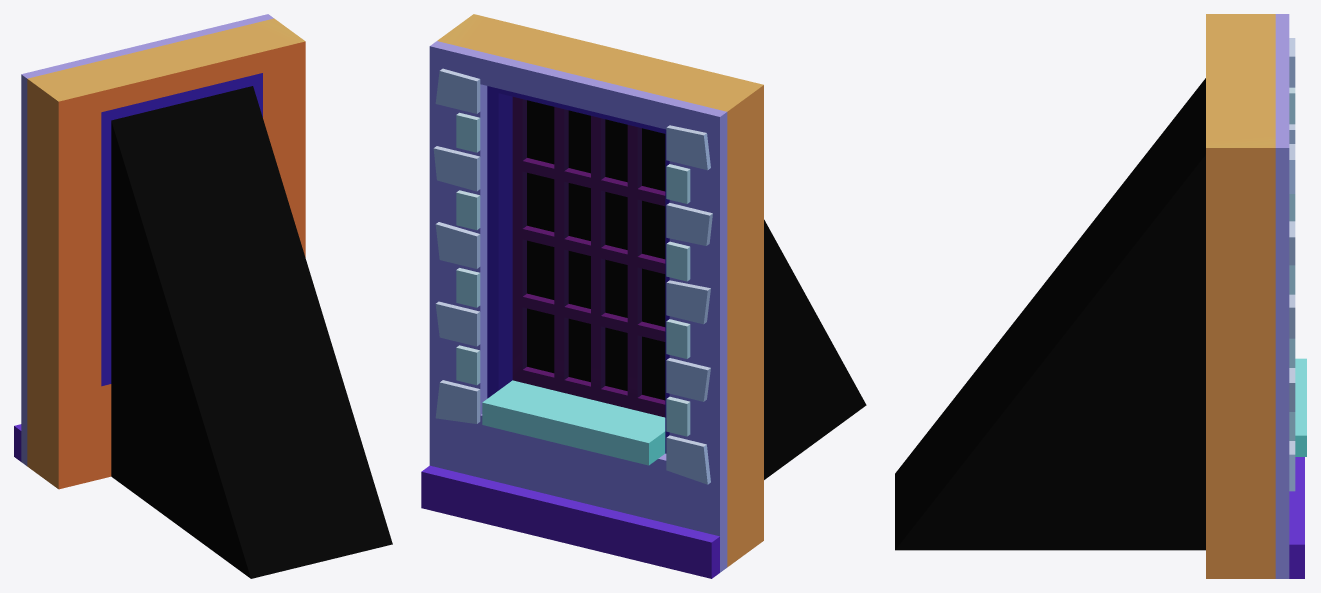
File: window_02.fbx
3 views of the same model, side by side, from view 1: azimuth 30°, elevation 25°; view 2: azimuth 150°, elevation 25°; view 3: azimuth 270°, elevation 25° (orthographic). The views are drawn at different scales.
Visible parts, largest first — view 1: window_02; view 2: window_02; view 3: window_02.
Part boxes in pixels (x1,y1,x2,y2): window_02: [14, 14, 392, 578]; window_02: [421, 14, 866, 578]; window_02: [895, 14, 1306, 578].
Bounding box in the file's own units: 100 × 150 × 130.
2 materials, 1 textured.
